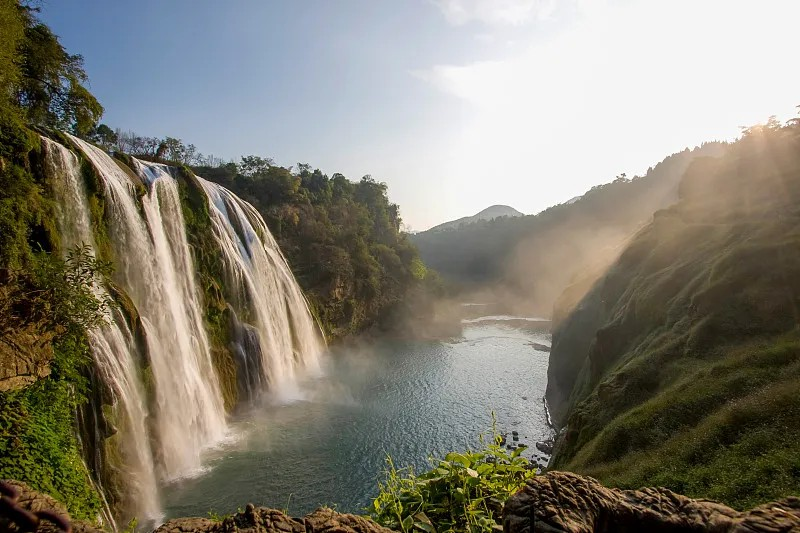Huangguoshu: (41, 133, 330, 523)
